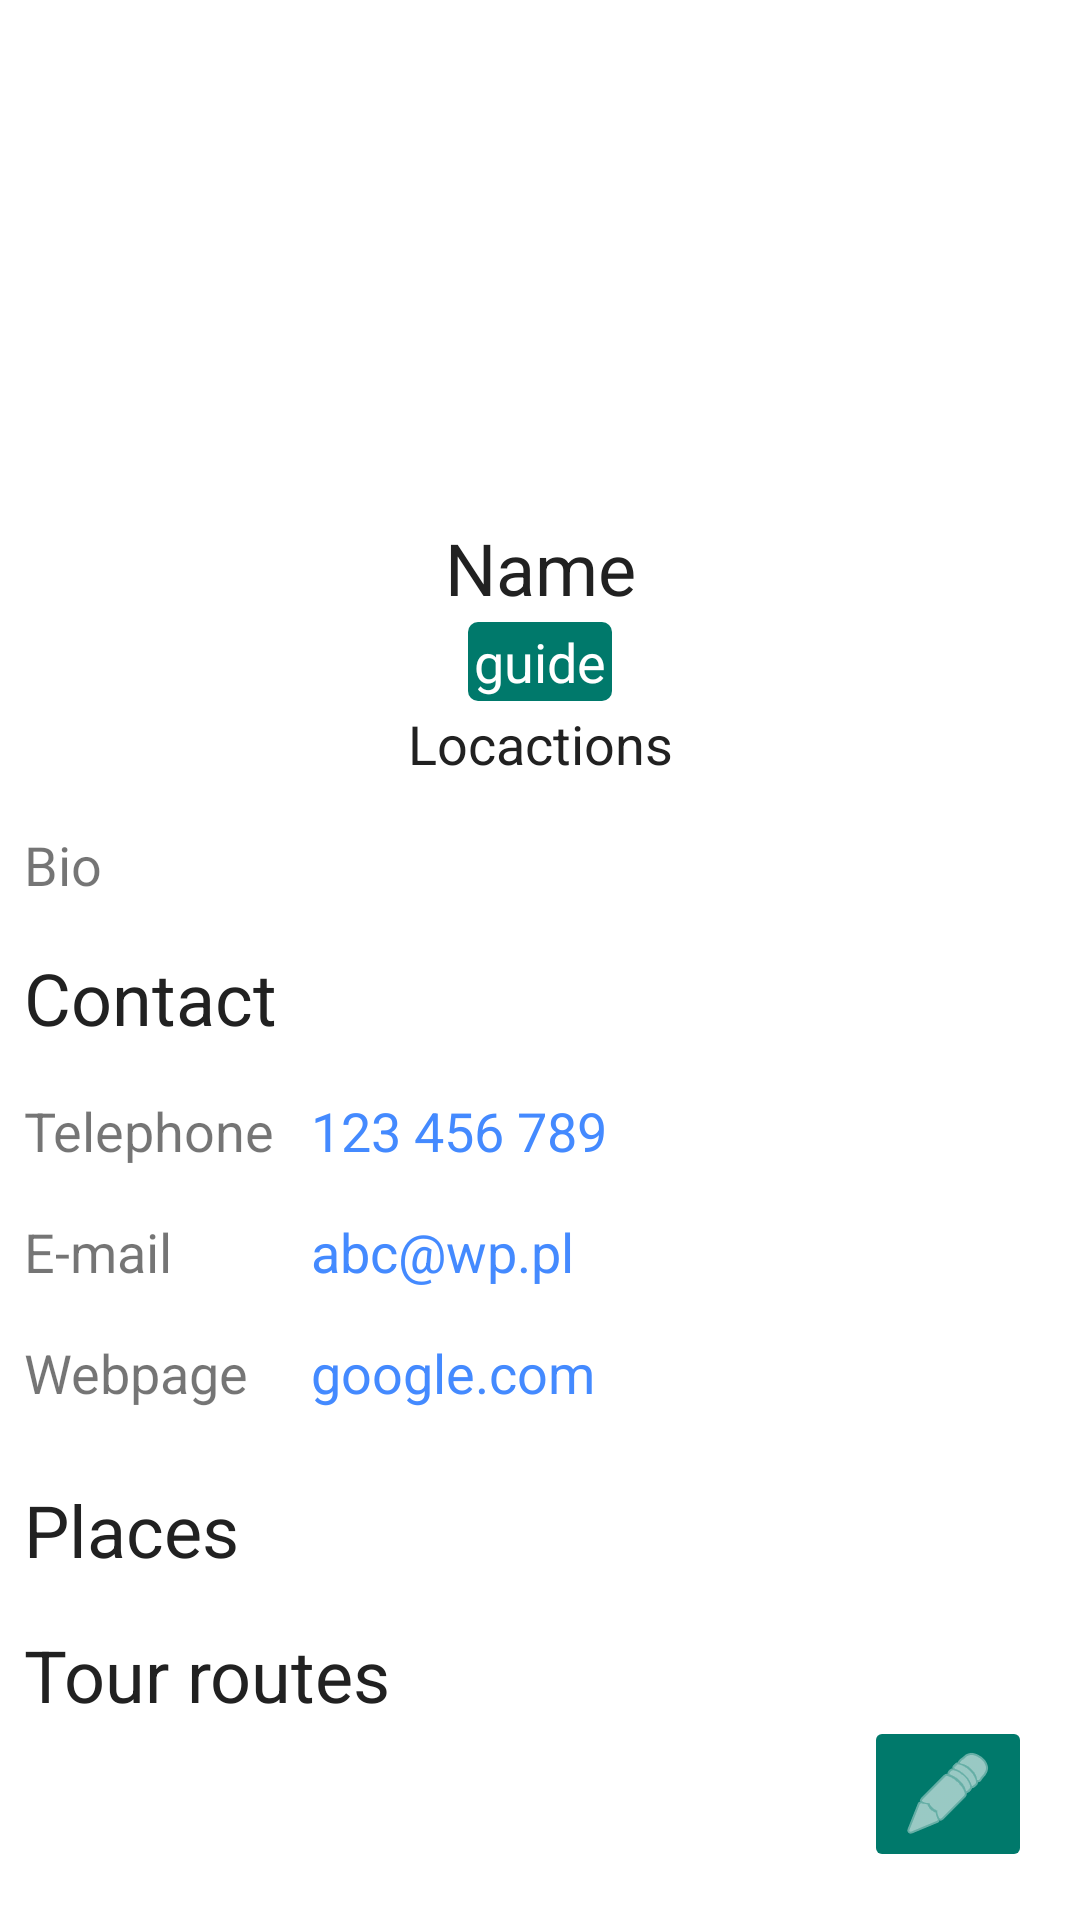

Named icons in this screenshot (1080*1920) and their centers, [x,y]:
edit: [948,1794]
